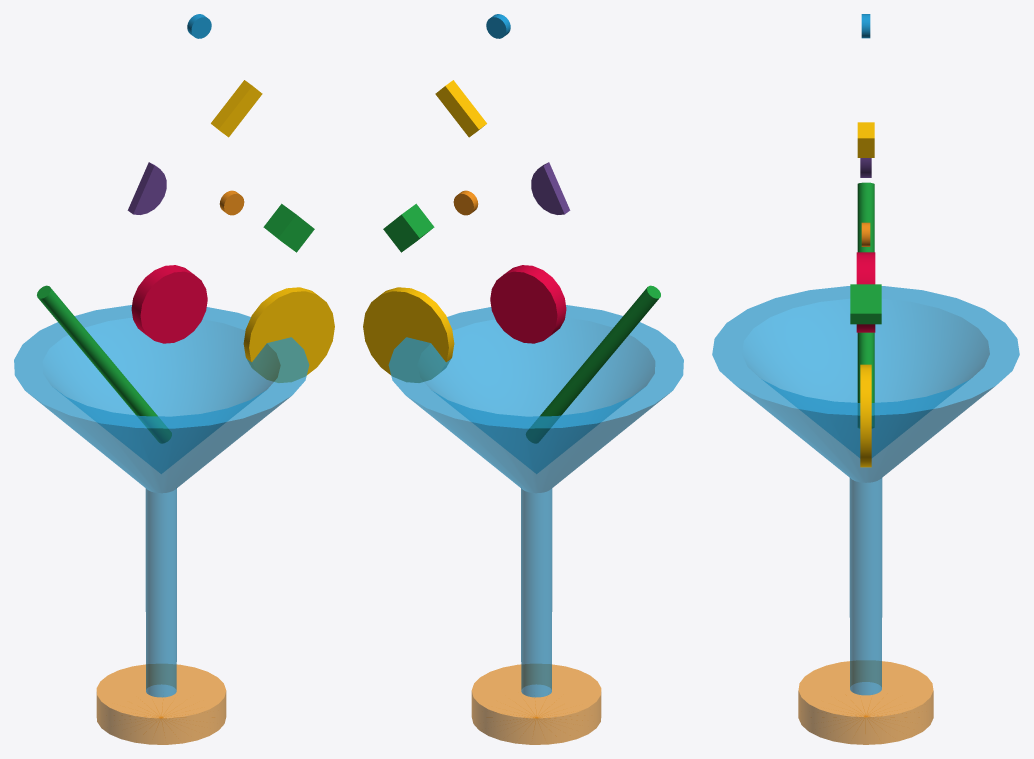
File: Festa.glb
3 views of the same model, side by side, from view 1: azimuth 30°, elevation 25°; view 2: azimuth 150°, elevation 25°; view 3: azimuth 270°, elevation 25° (orthographic). The views are drawn at different scales.
Visible parts, largest first — view 1: Plane, Cylinder.001, Cylinder.002, Cylinder, Cube.001, Cube, Cylinder.004; view 2: Plane, Cylinder.001, Cylinder.002, Cylinder, Cube.001, Cube, Cylinder.004; view 3: Plane, Cylinder, Cube, Cylinder.001, Cylinder.002, Cube.001.
Boxes of the visible parts, left/top/right/bottom form: Plane: left=14, top=305, right=309, bottom=744; Cylinder.001: left=243, top=287, right=334, bottom=382; Cylinder.002: left=131, top=265, right=207, bottom=343; Cylinder: left=37, top=285, right=171, bottom=443; Cube.001: left=211, top=80, right=262, bottom=137; Cube: left=263, top=203, right=314, bottom=252; Cylinder.004: left=127, top=162, right=166, bottom=214; Plane: left=388, top=305, right=683, bottom=744; Cylinder.001: left=363, top=287, right=454, bottom=382; Cylinder.002: left=490, top=265, right=566, bottom=343; Cylinder: left=526, top=285, right=660, bottom=443; Cube.001: left=435, top=80, right=486, bottom=137; Cube: left=383, top=203, right=434, bottom=252; Cylinder.004: left=531, top=162, right=570, bottom=214; Plane: left=712, top=286, right=1019, bottom=744; Cylinder: left=857, top=182, right=874, bottom=428; Cube: left=850, top=284, right=881, bottom=324; Cylinder.001: left=860, top=364, right=871, bottom=467; Cylinder.002: left=856, top=252, right=875, bottom=332; Cube.001: left=857, top=122, right=874, bottom=157.
Bounding box in the file's own units: 0.4602 × 1.02 × 0.3951.
